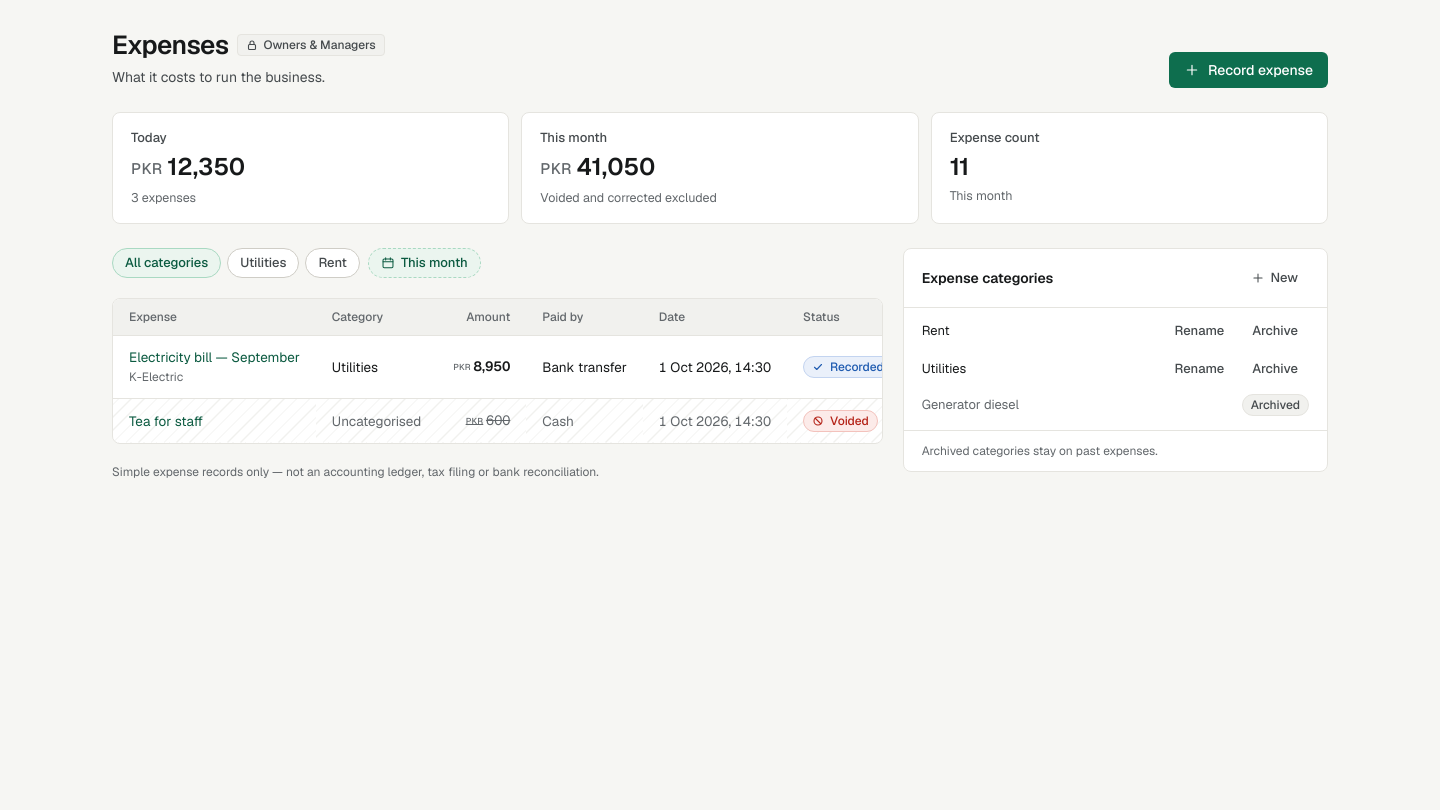
Test: Expenses (R7) › opens details from the list
This screenshot has width=1440, height=810.
Step 1. Click the button "Electricity bill — September" → (214, 357), box [129,347,300,367]
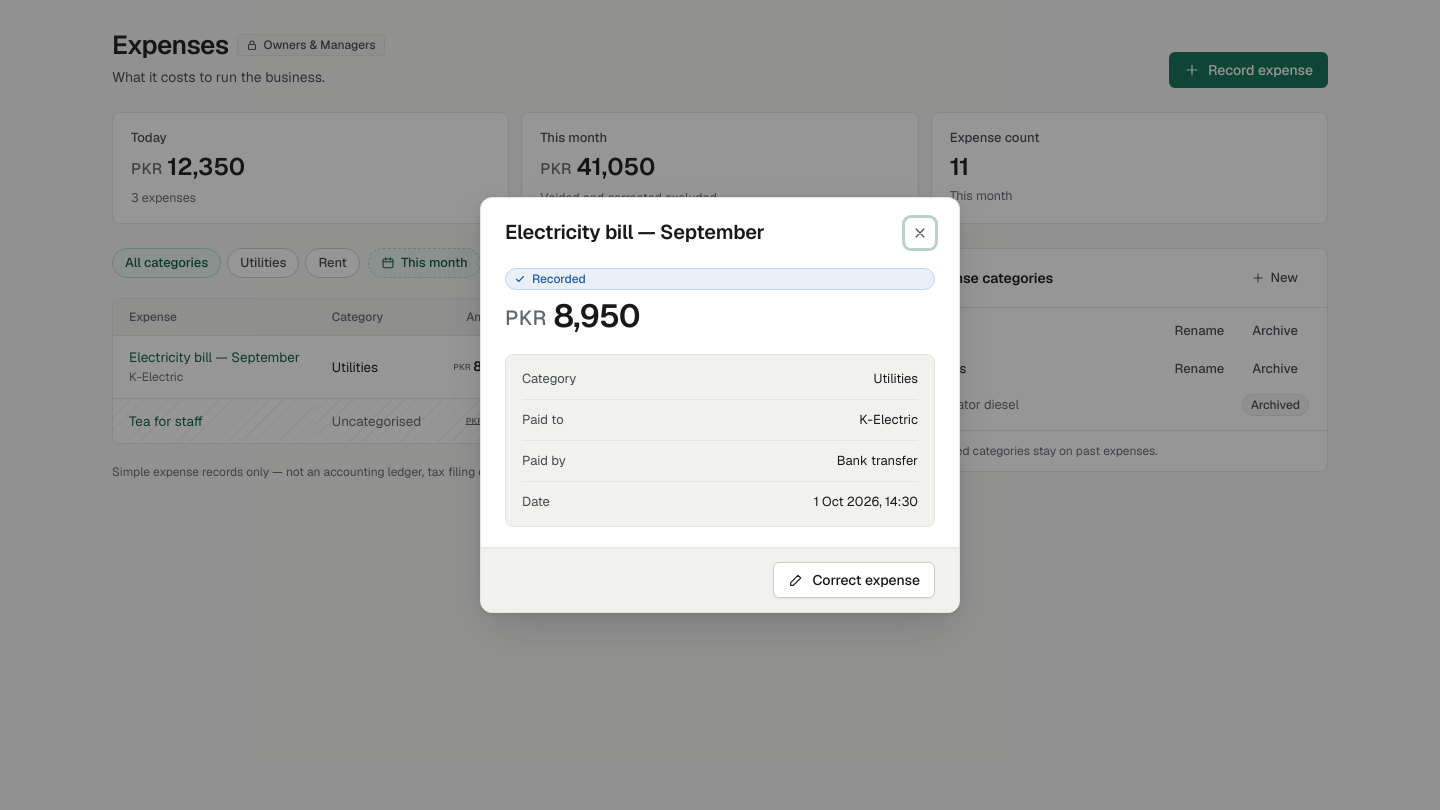
Now the text "K-Electric" is shown, box [859,410,918,430]
Now the button "Correct expense" is shown, box [774,562,935,598]
